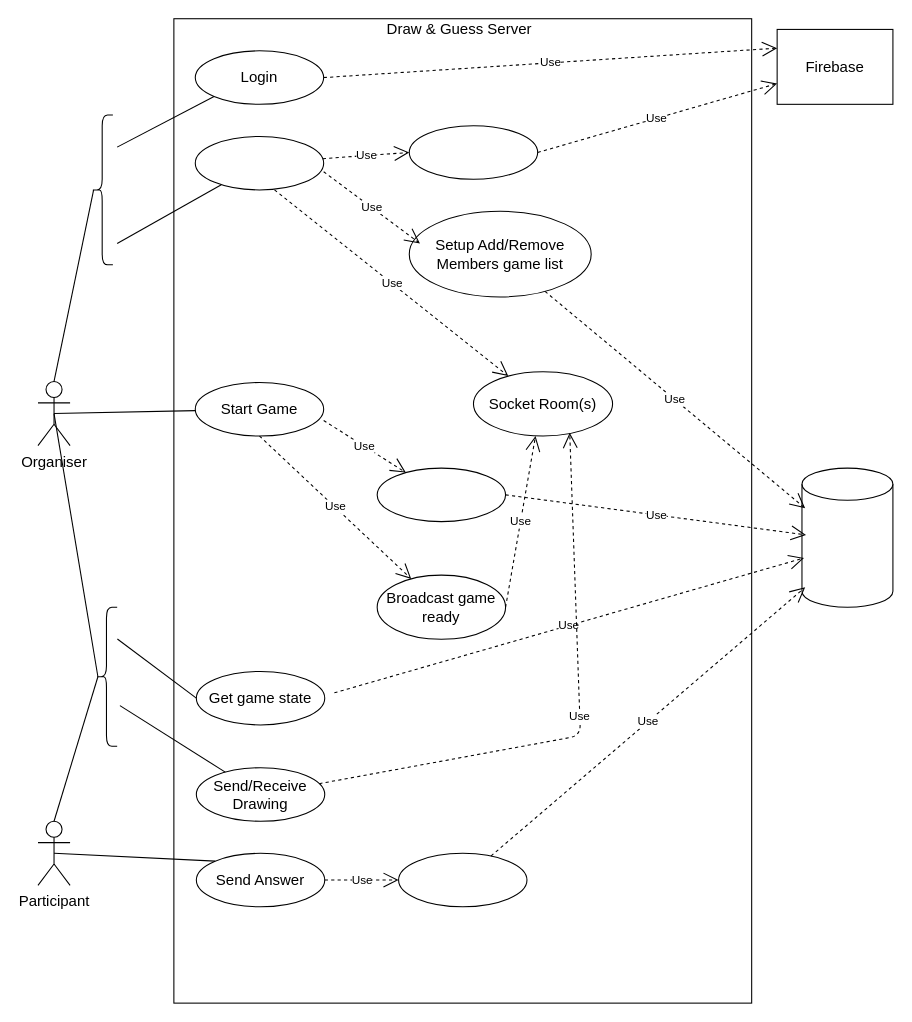
Some shapes in this 912 by 1022 pixel diagram are drawn without their labels. Here are the shapes that lost their labels. From the top down, the centre of each, then its label:
At point 259,162: "Create/Join Game".
At point 473,152: "Validate login".
At point 441,494: "Create Game Record".
At point 847,537: "Database".
At point 462,879: "Validate Answer".
